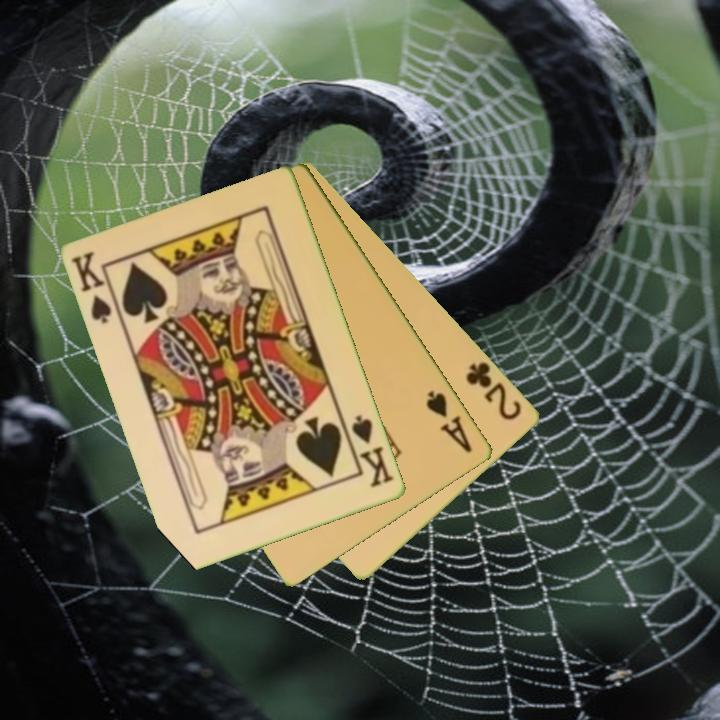2c: (463, 358, 525, 423)
As: (423, 387, 476, 456)
Ks: (342, 412, 398, 491), (68, 248, 124, 327)
